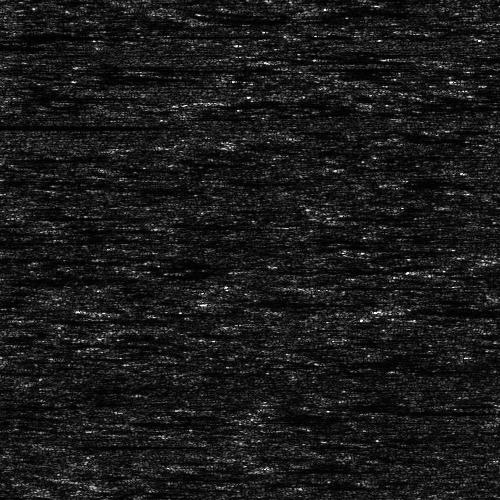rock: (325, 302, 450, 317), (178, 298, 261, 309), (31, 442, 84, 451), (0, 151, 29, 162), (280, 283, 333, 288), (20, 226, 61, 231), (226, 415, 279, 418), (15, 317, 56, 320), (0, 93, 8, 96)
shadow: (388, 302, 500, 317), (58, 442, 191, 451), (220, 298, 318, 309), (0, 39, 94, 50), (0, 151, 83, 162), (0, 120, 122, 125), (307, 283, 408, 288), (41, 226, 133, 231), (36, 317, 171, 320), (253, 415, 349, 418), (0, 93, 84, 96), (0, 486, 24, 489)
